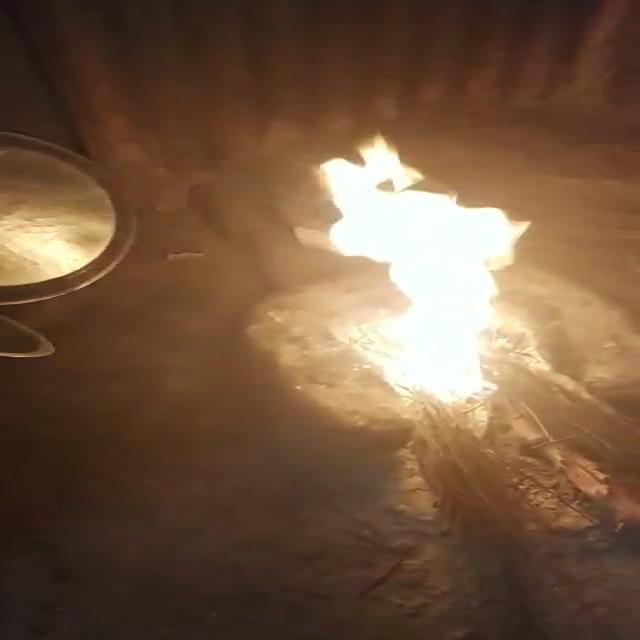Fire: (314, 132, 529, 402)
